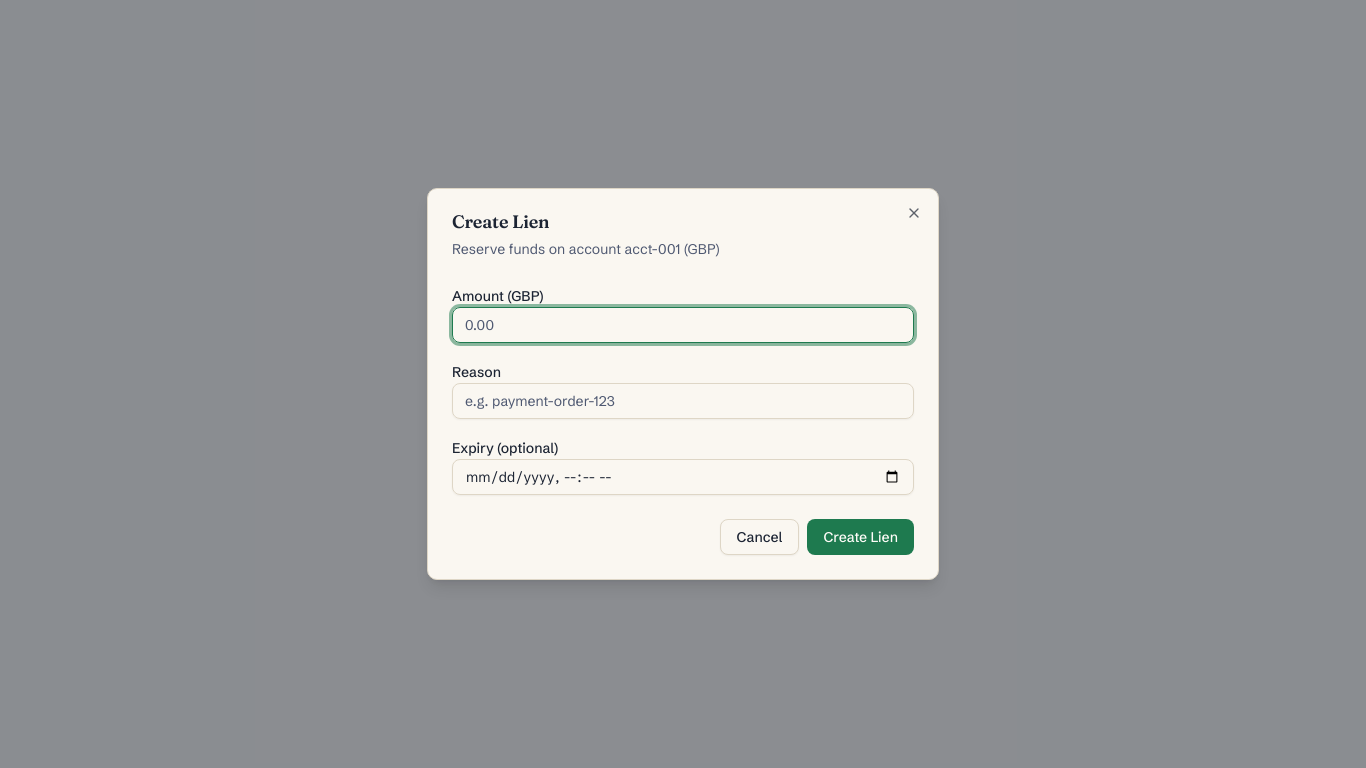
Scenario: CreateLienDialog - validation › shows error when amount is negative
This screenshot has width=1366, height=768.
Type "-10" into the field labelled "Amount (GBP)" at (683, 325), box [452,307,914,343]
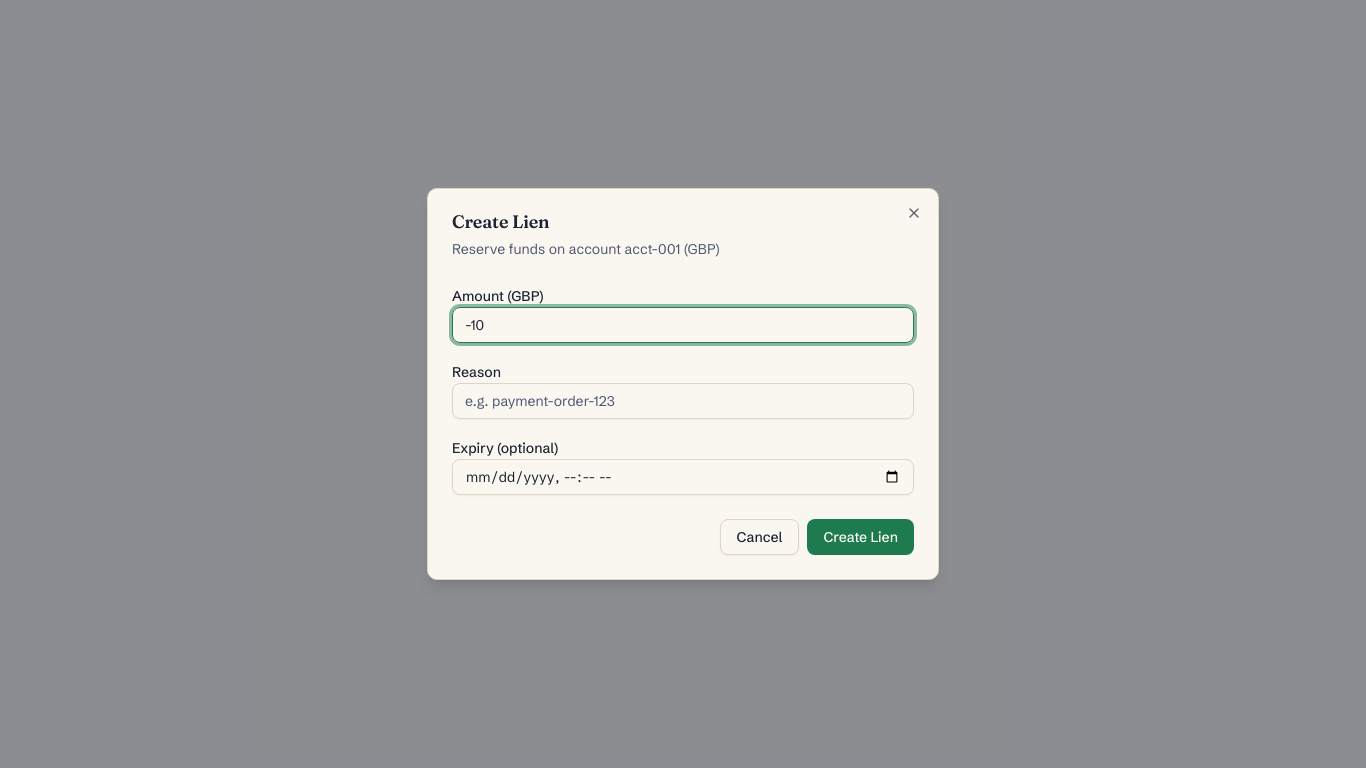
Type "pay-ref-001" into the field labelled "Reason" at (683, 401), box [452,383,914,419]
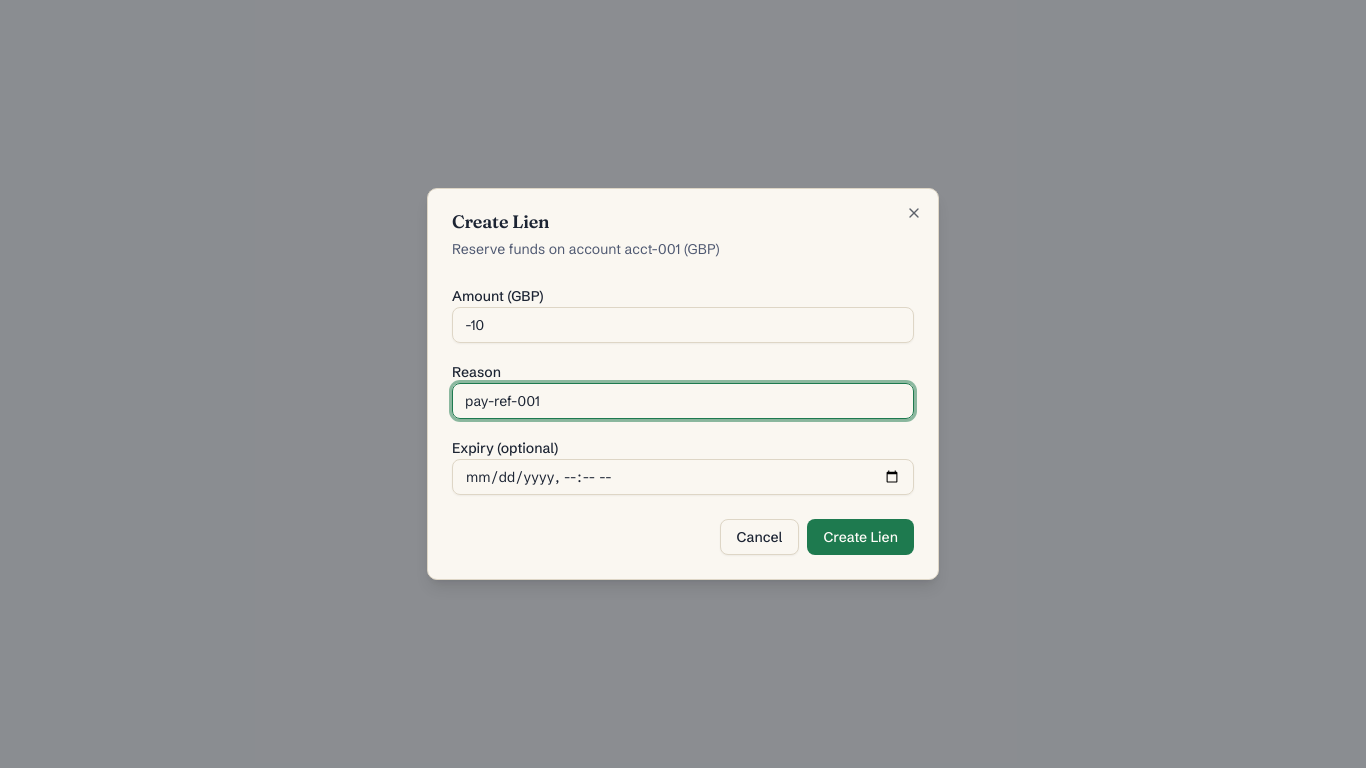
Click the button "Create Lien" at (861, 537), box [807,519,914,555]
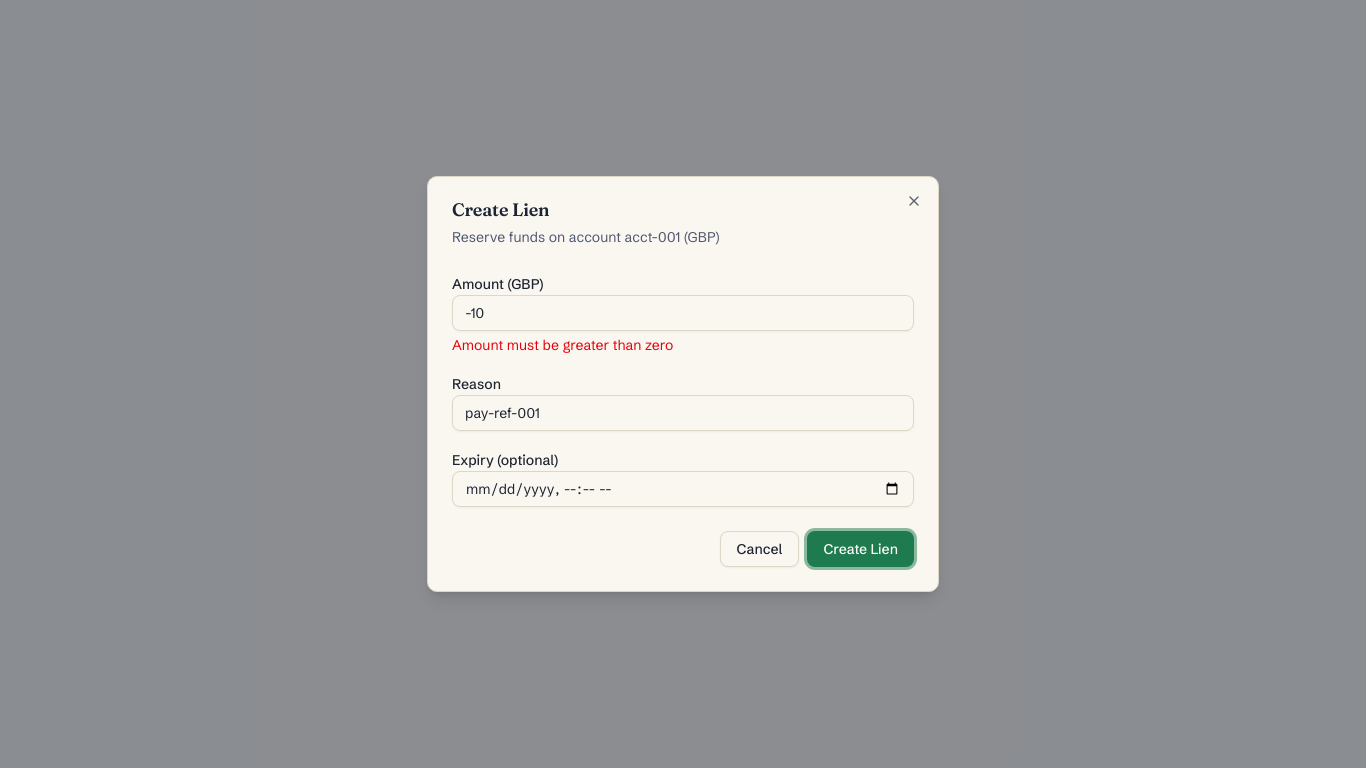
Expected: the text "Amount must be greater than zero" is shown, [452,336,673,354]
